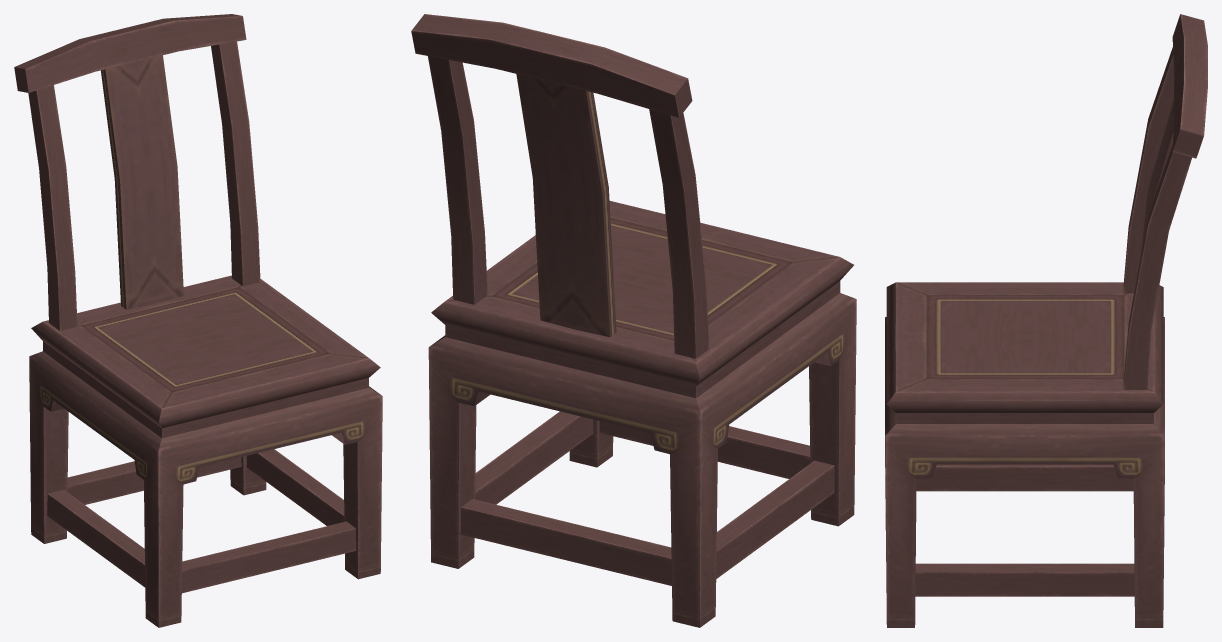
File: Homeworld_Exterior_Cyg_Chair_Prop_Kaobei_01_Vo.fbx
3 views of the same model, side by side, from view 1: azimuth 30°, elevation 25°; view 2: azimuth 150°, elevation 25°; view 3: azimuth 270°, elevation 25° (orthographic). The views are drawn at different scales.
Visible parts, largest first — view 1: Area_Ly_Prop_Common_Chair_B_04_Vo; view 2: Area_Ly_Prop_Common_Chair_B_04_Vo; view 3: Area_Ly_Prop_Common_Chair_B_04_Vo.
Boxes of the visible parts, bbox=[...] form: Area_Ly_Prop_Common_Chair_B_04_Vo: bbox=[14, 14, 382, 627]; Area_Ly_Prop_Common_Chair_B_04_Vo: bbox=[411, 14, 856, 627]; Area_Ly_Prop_Common_Chair_B_04_Vo: bbox=[885, 14, 1207, 627].
Bounding box in the file's own units: 0.5513 × 1.1 × 0.6337.
